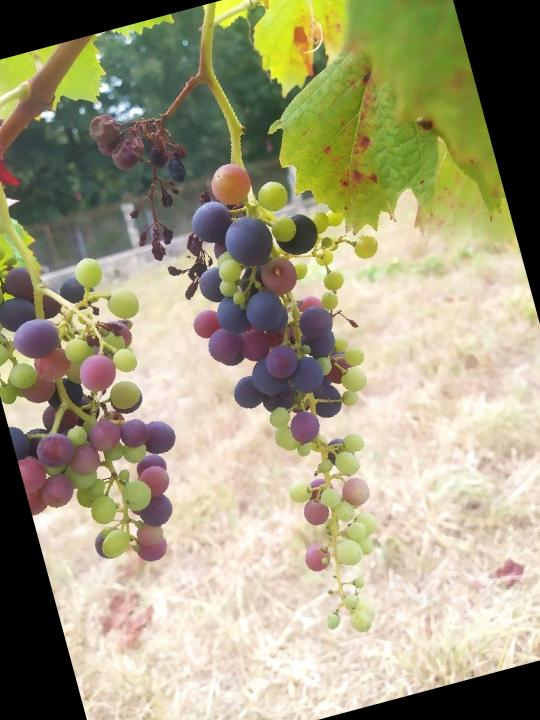grape: (140, 132, 473, 661), (0, 151, 207, 589), (81, 84, 216, 271)
